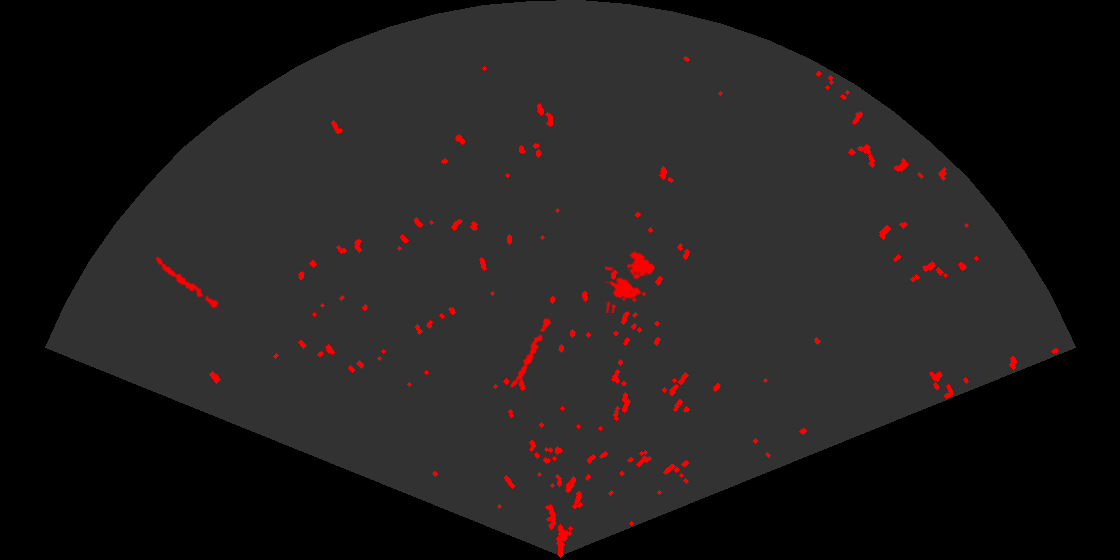cage: (605, 249, 657, 313)
chain: (154, 255, 223, 313), (509, 313, 554, 390)
